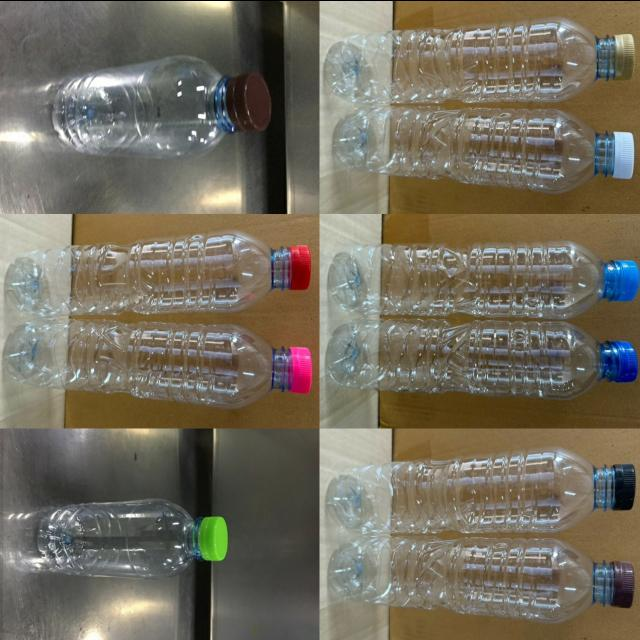plastik: (5, 318, 313, 408), (325, 16, 635, 103), (330, 535, 635, 623), (327, 446, 635, 533), (334, 105, 635, 193), (6, 230, 312, 315), (327, 318, 638, 398), (329, 240, 639, 318), (53, 55, 271, 157), (37, 497, 227, 578)
